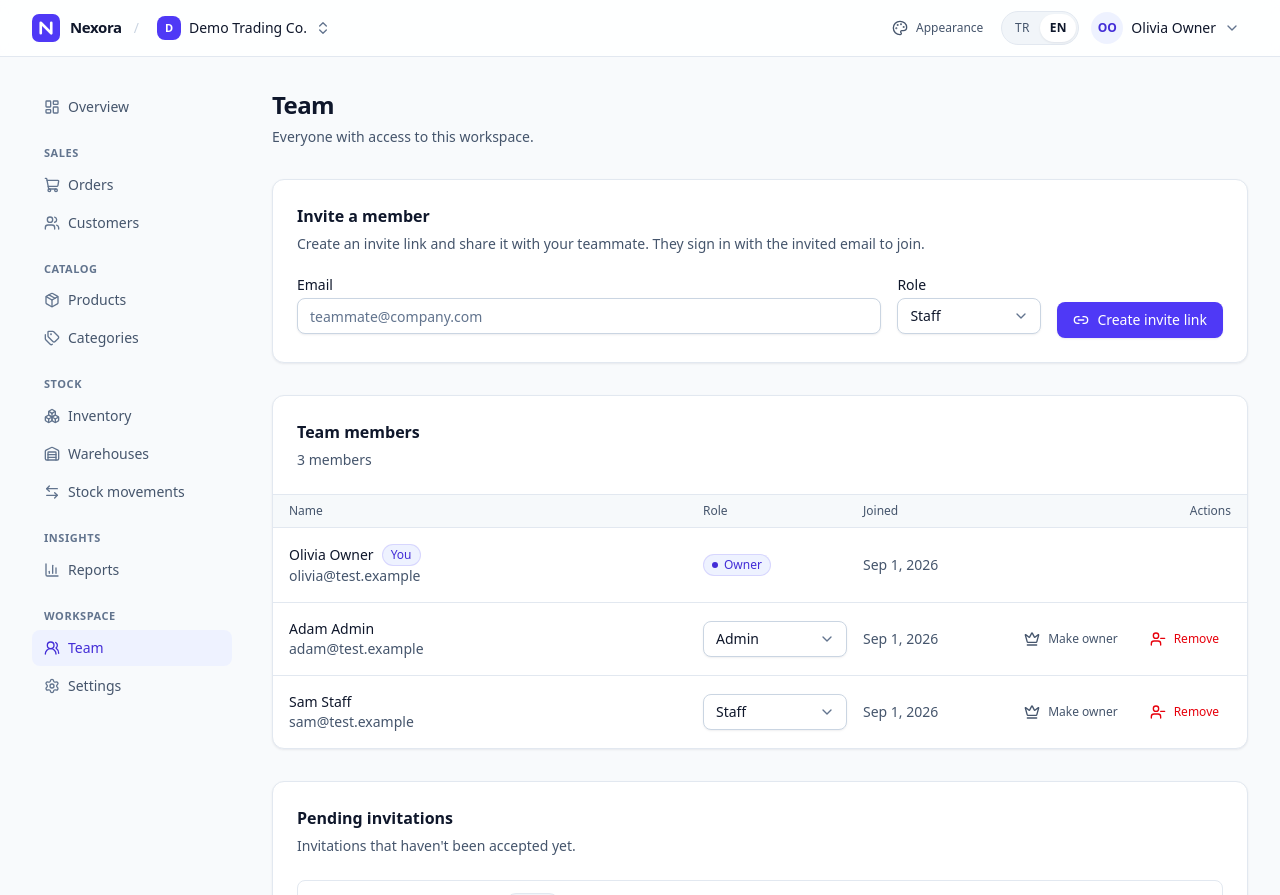
Scenario: TeamPage › shows a loading state while a role change is saved
Select "Admin" in the dropdown named "Role for Sam Staff": x=775, y=712 [703, 694, 847, 730]
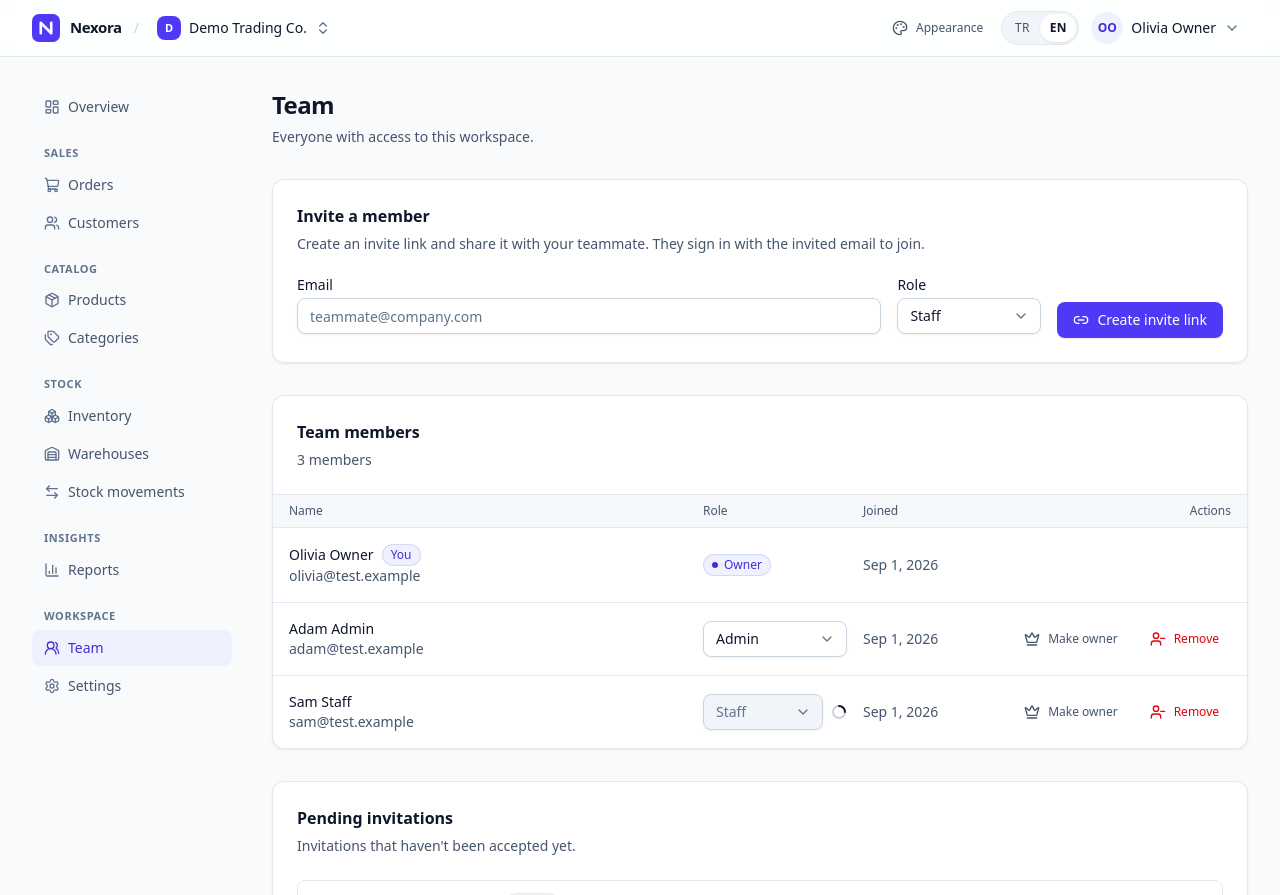
Expected: the dropdown named "Role for Sam Staff" is disabled, [703, 694, 823, 730]
